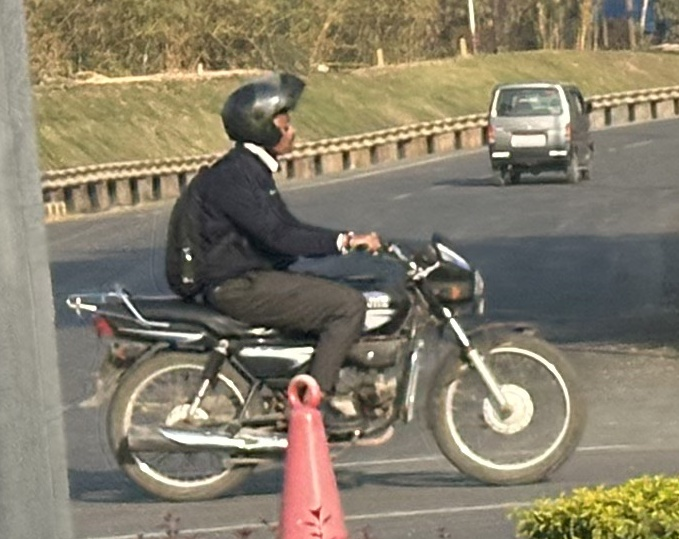BikeWithRider: (57, 64, 596, 507)
Helmet: (210, 65, 316, 160)
